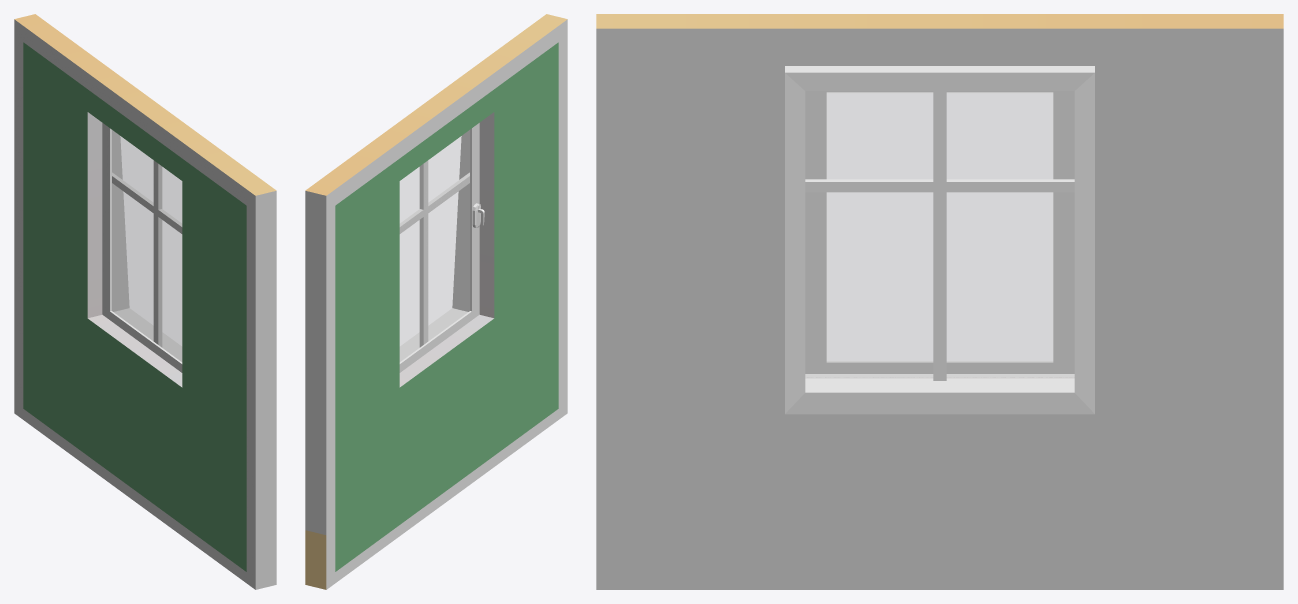
Rendered from Window-Top-A.fbx.
The picture shows the model from 3 angles, left to right: view 1: azimuth 30°, elevation 25°; view 2: azimuth 150°, elevation 25°; view 3: azimuth 270°, elevation 25°; orthographic projection. The views are drawn at different scales.
Visible parts, largest first — view 1: Window-Top A; view 2: Window-Top A; view 3: Window-Top A.
Part boxes in pixels (x1,y1,x2,y2): Window-Top A: [14, 14, 276, 589]; Window-Top A: [305, 14, 567, 589]; Window-Top A: [596, 14, 1283, 589].
Bounding box in the file's own units: 80.47 × 721 × 800.
